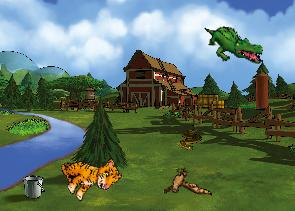crocodile: (203, 25, 264, 64)
eagle: (158, 161, 212, 207)
tiger: (55, 141, 124, 207)
